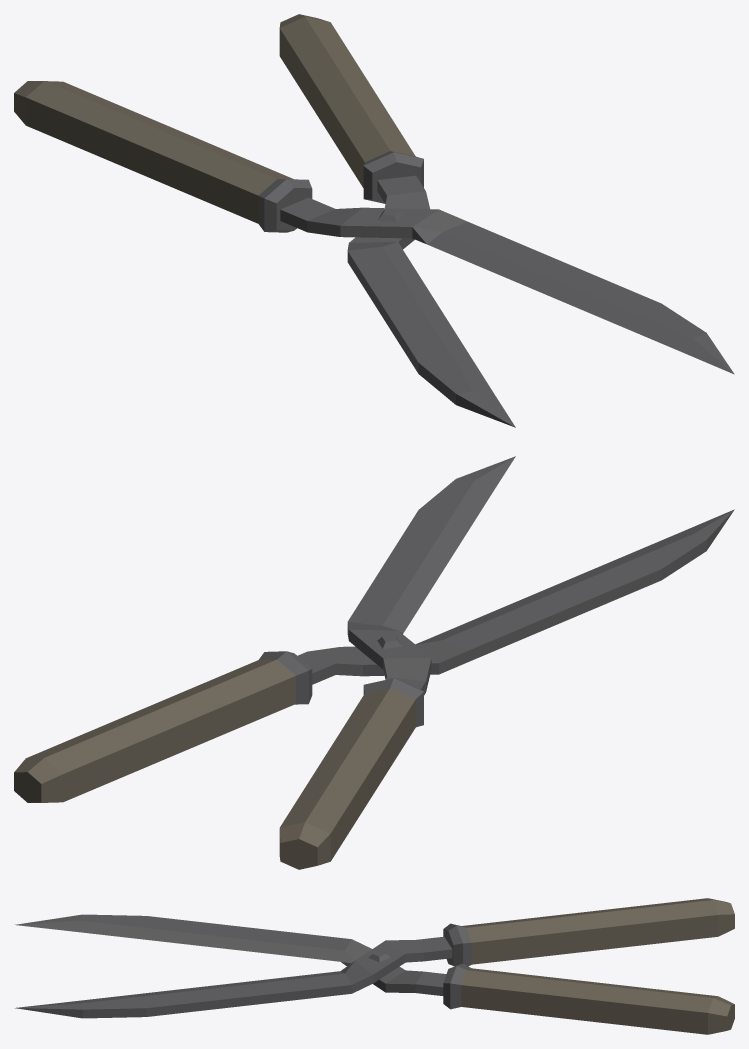
File: Tool_Shears_Open.fbx
3 views of the same model, one above another, from view 1: azimuth 30°, elevation 25°; view 2: azimuth 150°, elevation 25°; view 3: azimuth 270°, elevation 25° (orthographic). The views are drawn at different scales.
Visible parts, largest first — view 1: Shears_Open; view 2: Shears_Open; view 3: Shears_Open.
Part boxes in pixels (bbox=[...]): Shears_Open: bbox=[14, 14, 734, 427]; Shears_Open: bbox=[14, 456, 734, 869]; Shears_Open: bbox=[15, 898, 734, 1034].
Size of the model in its own units: 33.63 by 88.77 by 5.73.
